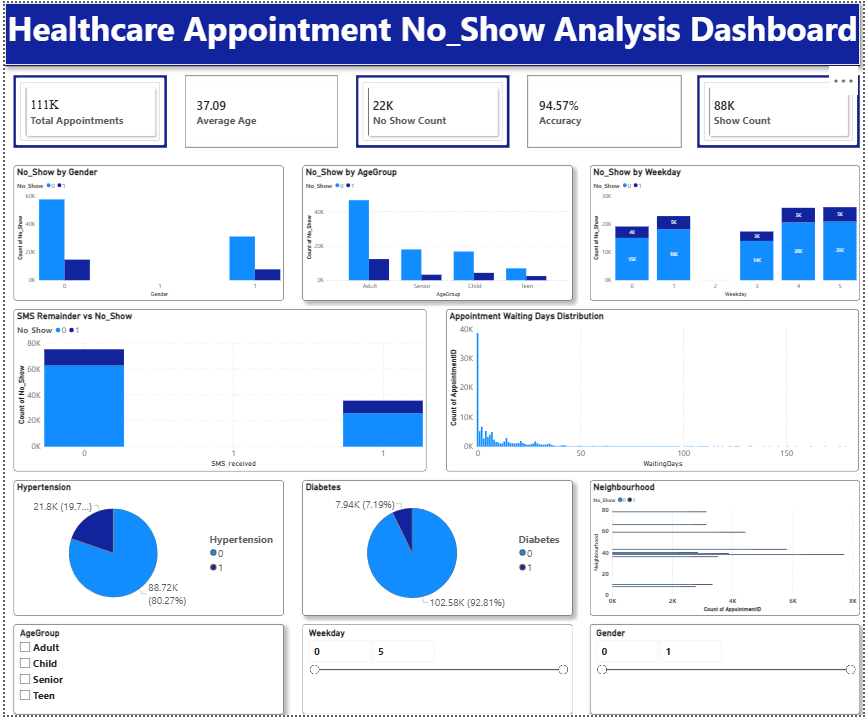

What the dashboard file says about the page in this screenshot:
{"tool":"powerbi","page":{"name":"Page 1","canvas":[2290,1900],"ordinal":0},"visuals":[{"type":"cardVisual","fields":{"Data":["Prediction.Total Appointments"]},"box":[24,192,408,192],"z":0},{"type":"cardVisual","fields":{"Data":["Prediction.No Show Count"]},"box":[936,192,408,192],"z":1000},{"type":"cardVisual","fields":{"Data":["Prediction.Show Count"]},"box":[1848,192,432,192],"z":2000},{"type":"cardVisual","fields":{"Data":["Prediction.Average Age"]},"box":[480,192,408,192],"z":3000},{"type":"cardVisual","fields":{"Data":["Prediction.Accuracy"]},"box":[1392,192,410,192],"z":4000},{"type":"clusteredColumnChart","title":"No_Show by Gender ","fields":{"Category":["Prediction.Gender"],"Y":["CountNonNull(Prediction.No_Show)"],"Series":["Prediction.No_Show"]},"box":[24,432,720,360],"z":5000},{"type":"clusteredColumnChart","title":"No_Show by AgeGroup ","fields":{"Category":["Prediction.AgeGroup"],"Y":["CountNonNull(Prediction.No_Show)"],"Series":["Prediction.No_Show"]},"box":[792,432,720,360],"z":6000},{"type":"columnChart","title":"No_Show by Weekday","fields":{"Category":["Prediction.Weekday"],"Y":["CountNonNull(Prediction.No_Show)"],"Series":["Prediction.No_Show"]},"box":[1560,432,720,360],"z":7000},{"type":"columnChart","title":"SMS Remainder vs No_Show","fields":{"Category":["Prediction.SMS_received"],"Y":["CountNonNull(Prediction.No_Show)"],"Series":["Prediction.No_Show"]},"box":[24,816,1100,432],"z":8000},{"type":"columnChart","title":"Appointment Waiting Days Distribution","fields":{"Category":["Prediction.WaitingDays"],"Y":["CountNonNull(Prediction.AppointmentID)"]},"box":[1176,816,1100,432],"z":9000},{"type":"pieChart","title":"Hypertension","fields":{"Category":["Prediction.Hypertension"],"Y":["CountNonNull(Prediction.AppointmentID)"]},"box":[24,1272,720,360],"z":10000},{"type":"pieChart","title":" Diabetes","fields":{"Category":["Prediction.Diabetes"],"Y":["CountNonNull(Prediction.AppointmentID)"]},"box":[792,1272,720,360],"z":11000},{"type":"barChart","title":"Neighbourhood","fields":{"Category":["Prediction.Neighbourhood"],"Y":["CountNonNull(Prediction.AppointmentID)"],"Series":["Prediction.No_Show"]},"box":[1560,1272,720,360],"z":12000},{"type":"slicer","fields":{"Values":["Prediction.Gender"]},"box":[1560,1656,720,240],"z":13000},{"type":"slicer","fields":{"Values":["Prediction.AgeGroup"]},"box":[24,1656,720,240],"z":14000},{"type":"slicer","fields":{"Values":["Prediction.Weekday"]},"box":[792,1656,720,240],"z":15000},{"type":"textbox","box":[0,0,2280,168],"z":16000}]}

Visuals, with their boxes in screenshot pixels (x1, y1, x2, y2), scaled from the page's 2290x1900 canvas onto the 868x722 screenshot:
cardVisual - Prediction.Total Appointments: x1=9 y1=73 x2=164 y2=146
cardVisual - Prediction.No Show Count: x1=355 y1=73 x2=509 y2=146
cardVisual - Prediction.Show Count: x1=700 y1=73 x2=864 y2=146
cardVisual - Prediction.Average Age: x1=182 y1=73 x2=337 y2=146
cardVisual - Prediction.Accuracy: x1=528 y1=73 x2=683 y2=146
"No_Show by Gender " clusteredColumnChart: x1=9 y1=164 x2=282 y2=301
"No_Show by AgeGroup " clusteredColumnChart: x1=300 y1=164 x2=573 y2=301
"No_Show by Weekday" columnChart: x1=591 y1=164 x2=864 y2=301
"SMS Remainder vs No_Show" columnChart: x1=9 y1=310 x2=426 y2=474
"Appointment Waiting Days Distribution" columnChart: x1=446 y1=310 x2=863 y2=474
"Hypertension" pieChart: x1=9 y1=483 x2=282 y2=620
" Diabetes" pieChart: x1=300 y1=483 x2=573 y2=620
"Neighbourhood" barChart: x1=591 y1=483 x2=864 y2=620
slicer - Prediction.Gender: x1=591 y1=629 x2=864 y2=720
slicer - Prediction.AgeGroup: x1=9 y1=629 x2=282 y2=720
slicer - Prediction.Weekday: x1=300 y1=629 x2=573 y2=720
textbox: x1=0 y1=0 x2=864 y2=64
